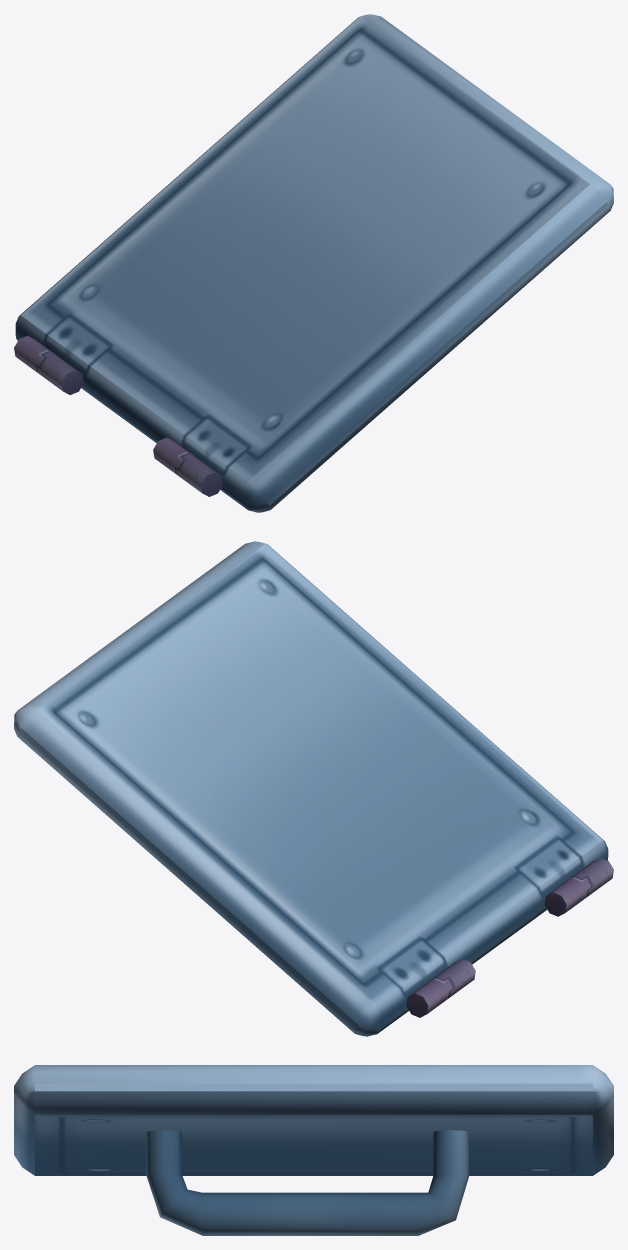
The model's file is Bunker.FBX.
3 views of the same model, one above another, from view 1: azimuth 30°, elevation 25°; view 2: azimuth 150°, elevation 25°; view 3: azimuth 270°, elevation 25° (orthographic). The views are drawn at different scales.
Visible parts, largest first — view 1: Box150; view 2: Box150; view 3: Box150.
Boxes of the visible parts, box(x1,y1,x2,y2) form: Box150: box(14, 14, 613, 512); Box150: box(14, 541, 613, 1036); Box150: box(14, 1065, 613, 1235).
Size of the model in its own units: 8.18 by 4.92 by 8.88.
